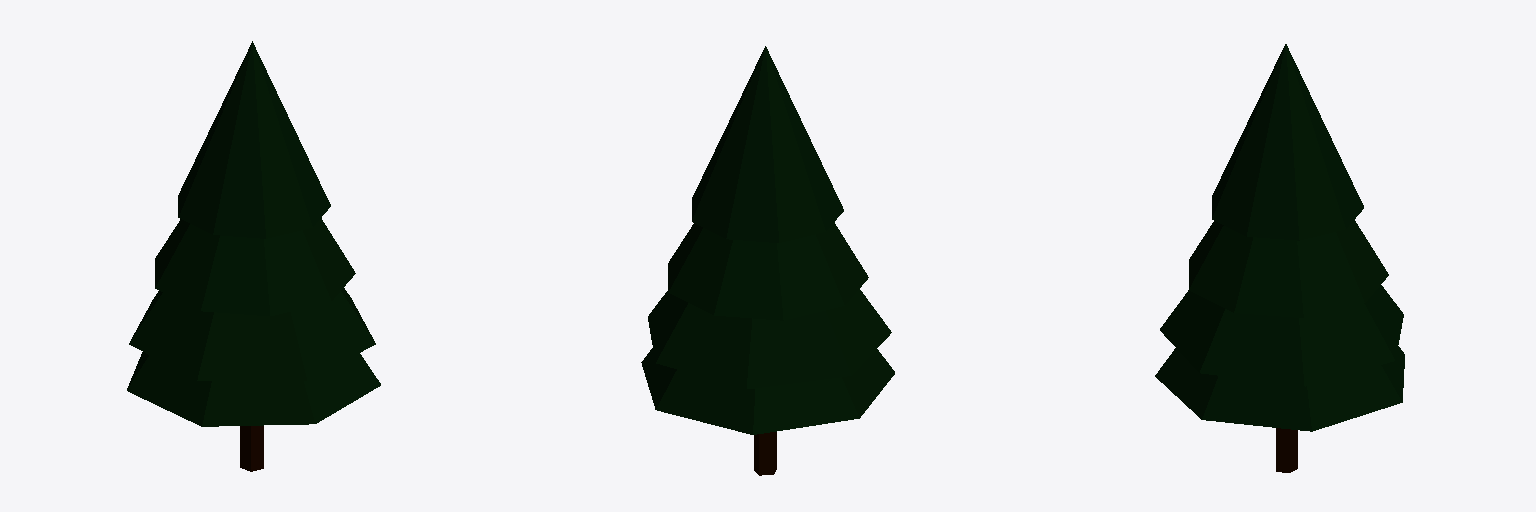
The model's file is tree.obj.
The picture shows the model from 3 angles: view 1: azimuth 30°, elevation 25°; view 2: azimuth 150°, elevation 25°; view 3: azimuth 270°, elevation 25°; orthographic projection.
Parts seen in each view (by area): view 1: Cone.003, Cone, Cone.001, Cone.002, Cylinder; view 2: Cone.003, Cone, Cone.001, Cone.002, Cylinder; view 3: Cone.003, Cone, Cone.001, Cone.002, Cylinder.
Part boxes in pixels (x1,y1,x2,y2): Cone.003: (178,41,330,238); Cone: (129,288,375,380); Cone.001: (155,218,355,315); Cone.002: (127,352,380,426); Cylinder: (240,426,263,471); Cone.003: (692,46,843,242); Cone: (648,289,891,389); Cone.001: (668,222,868,320); Cone.002: (641,348,894,434); Cylinder: (754,432,776,475); Cone.003: (1212,44,1363,240); Cone: (1160,285,1403,386); Cone.001: (1189,220,1388,317); Cone.002: (1155,346,1404,431); Cylinder: (1276,428,1297,472).
Size of the model in its own units: 4.32 by 7.95 by 4.24.